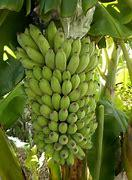banana: (13, 25, 97, 159), (22, 85, 95, 158), (14, 28, 102, 84)
